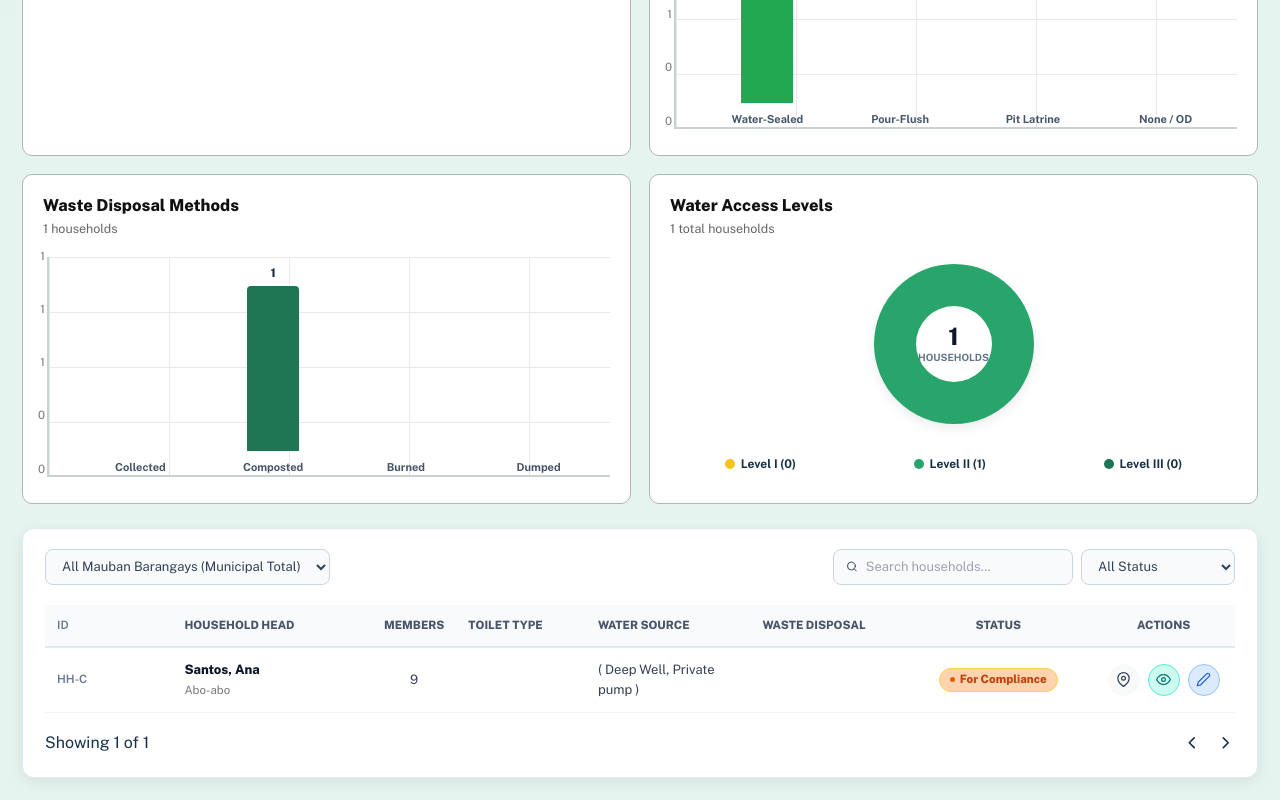
Test: radio focus and keyboard space select an approved value
This screenshot has width=1280, height=800.
(page scrolled)
Click the button titled "Edit Household Record" at {"x": 1204, "y": 680}, box left=1188, top=664, right=1220, bottom=696
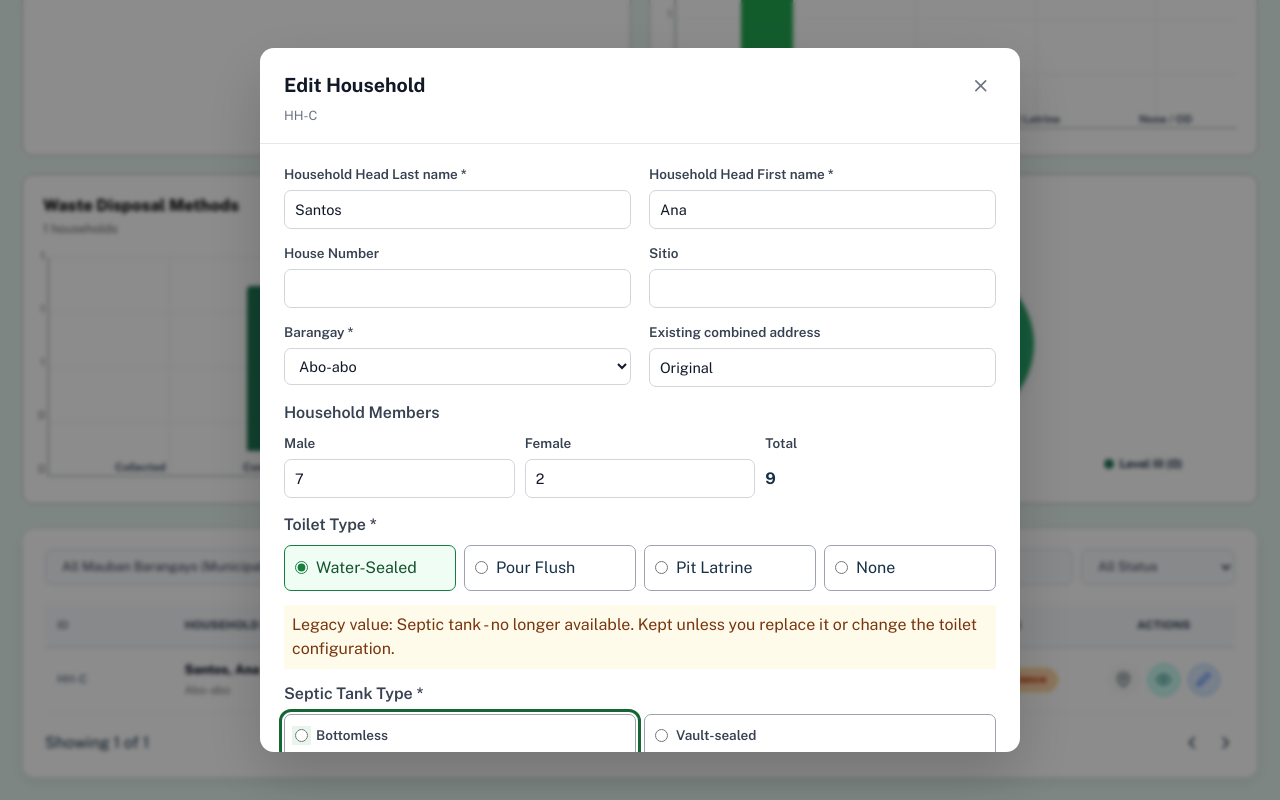
Type keys " "
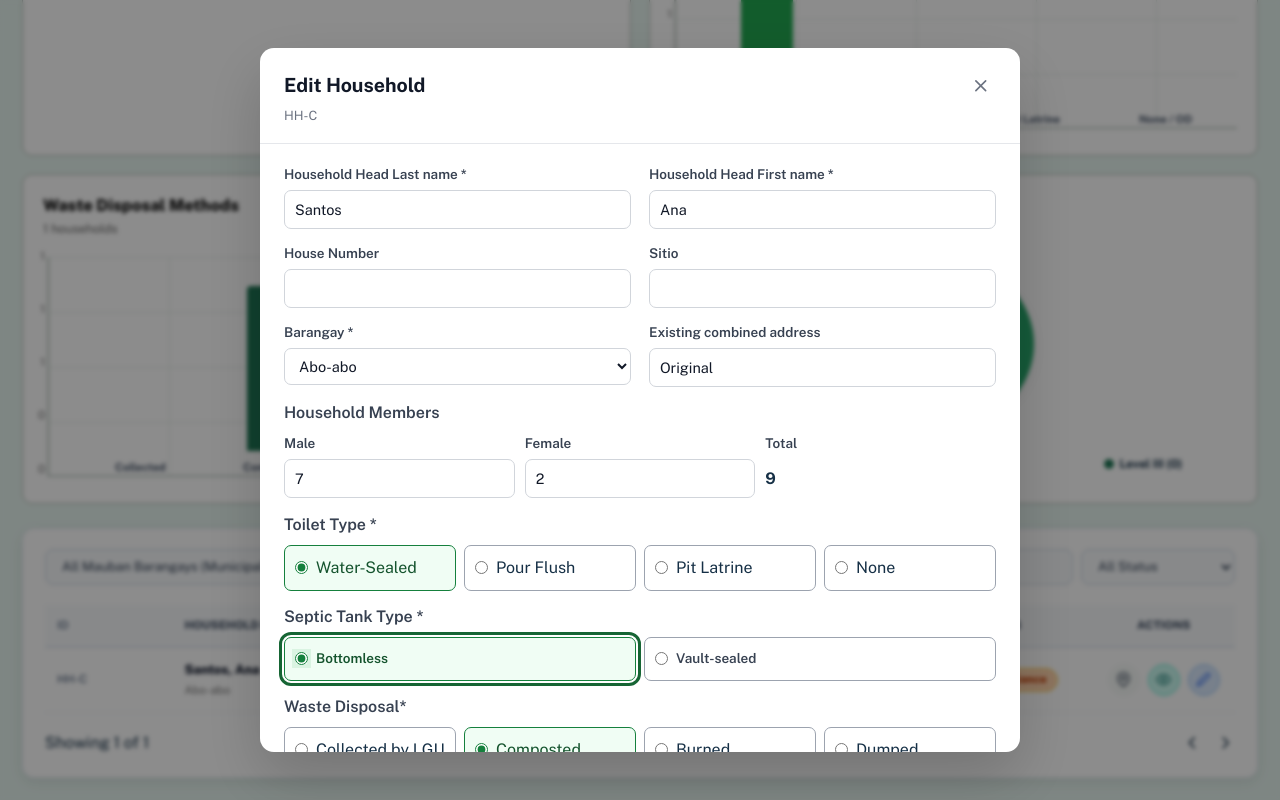
Result: the radio button labelled "Bottomless" is checked at left=295, top=652, right=308, bottom=665
